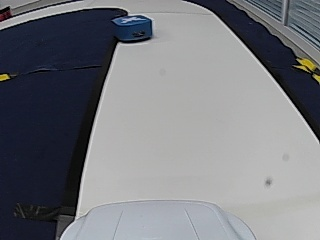prop: (113, 16, 153, 43)
